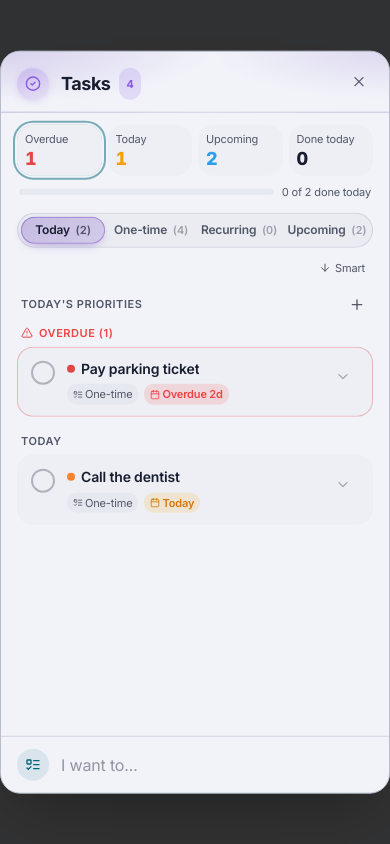
TasksPopup — lands on the task you tapped › the stat tiles open their list
expect the tab with test id "task-tab-upcoming" shows "(2)": met, box [285,216,369,244]
expect the button with test id "tasks-stat-overdue" shows "1": met, box [17,125,102,176]
Click the button with test id "tasks-stat-upcoming". click: (240, 150)
box: [198,125,282,176]
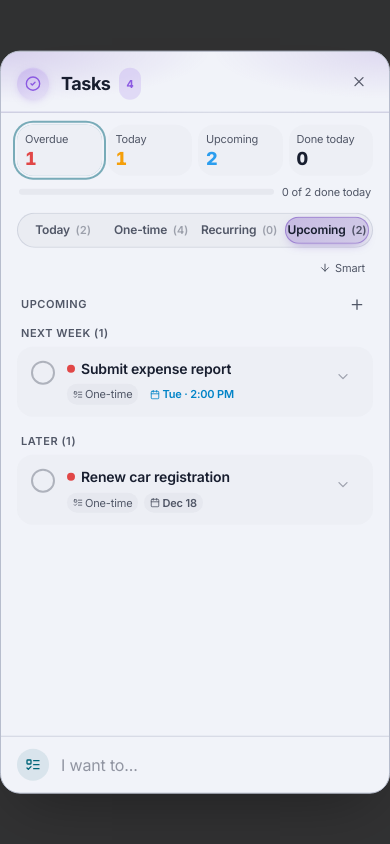
expect the tab with test id "task-tab-upcoming" is selected: met, box [285,216,369,244]
